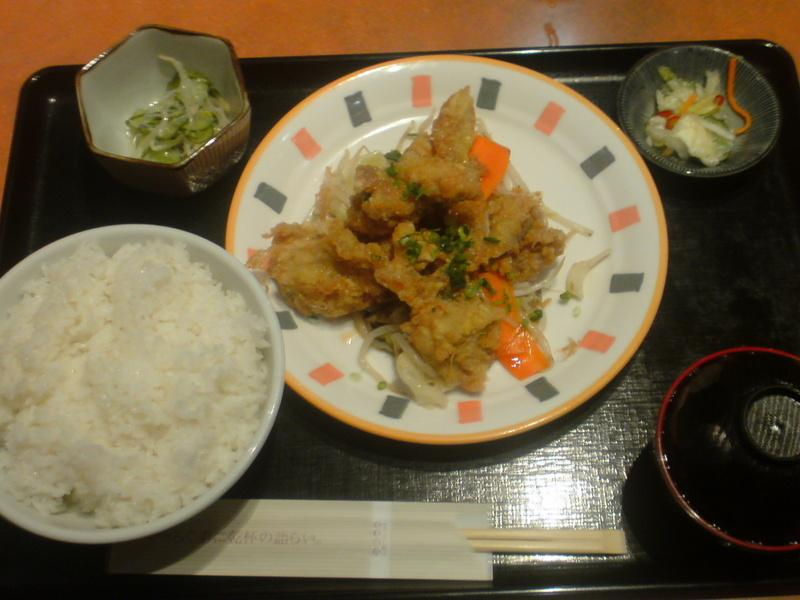plate: (226, 55, 667, 444)
rice: (0, 243, 269, 528)
